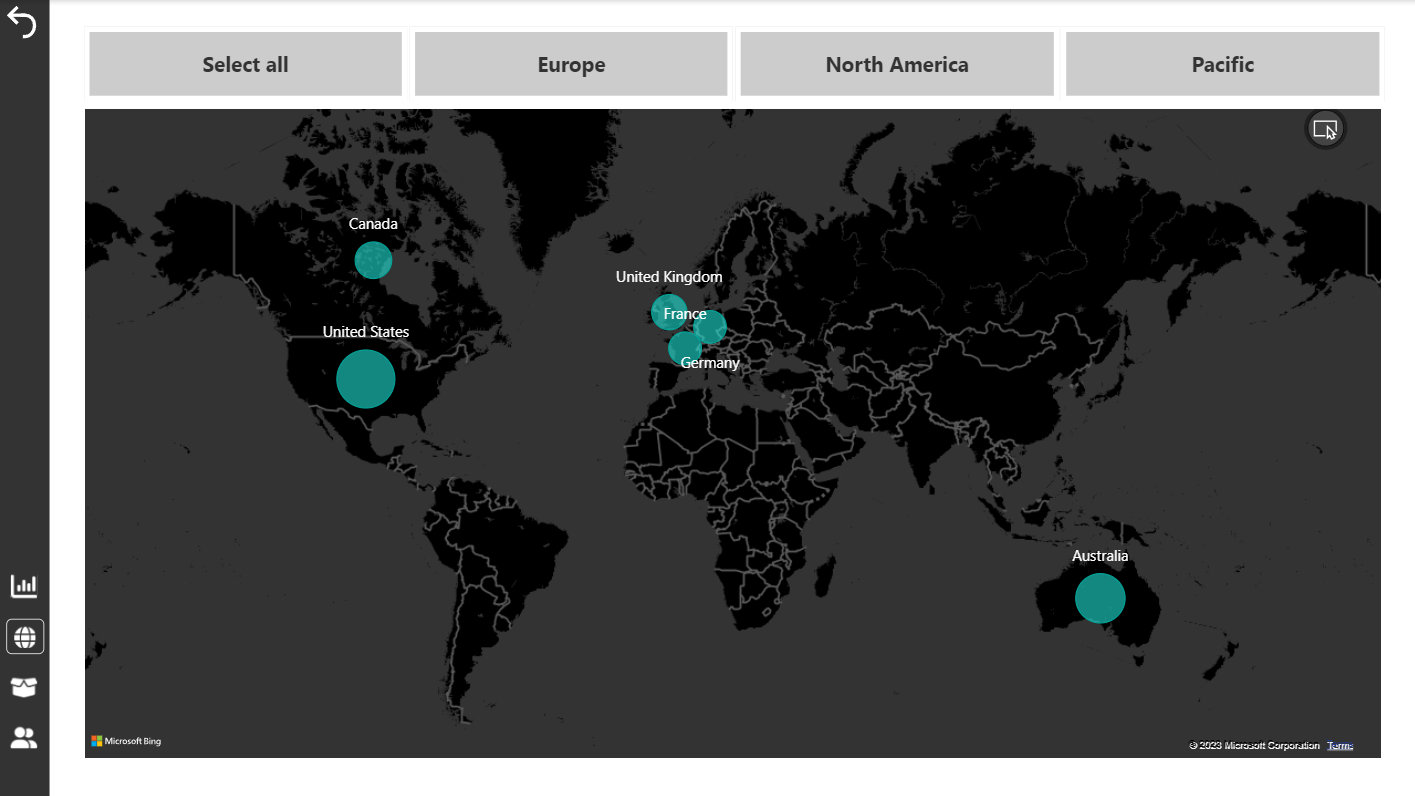

Layout of this report page (visuals, bound fields, positions):
{"tool":"powerbi","page":{"name":"Map","canvas":[1280,720],"ordinal":1},"visuals":[{"type":"shape","box":[0,0,45,720],"z":0},{"type":"actionButton","box":[6.2,514.8,34.3,32],"z":0,"group":"g1"},{"type":"actionButton","box":[6.2,652.1,34.3,32],"z":500,"group":"g1"},{"type":"actionButton","box":[6.2,560.6,34.3,32],"z":1000,"group":"g1"},{"type":"map","title":"Orders by Country","fields":{"Category":["Territory Lookup.Country"],"Size":["Measure Table.Total Orders"]},"box":[72.4,86.8,1181.6,602.6],"z":1000},{"type":"slicer","fields":{"Values":["Territory Lookup.Continent"]},"box":[50,17.1,1226.3,81.6],"z":2000},{"type":"actionButton","box":[6.2,606.3,34.3,32],"z":2000,"group":"g1"},{"type":"group","id":"g1","title":"Nav Buttons","box":[6.2,514.8,34.3,169.2],"z":3000},{"type":"actionButton","box":[0,0,45.2,39.6],"z":4000}]}

Visuals, with their boxes on the page's 1280x720 design canvas (x1, y1, x2, y2). These are canvas units, not pixel positions in the 1415x796 screenshot, which may show the page scaled, cropped or inside an application window:
shape: (x1=0, y1=0, x2=45, y2=720)
actionButton: (x1=6, y1=515, x2=40, y2=547)
actionButton: (x1=6, y1=652, x2=40, y2=684)
actionButton: (x1=6, y1=561, x2=40, y2=593)
"Orders by Country" map: (x1=72, y1=87, x2=1254, y2=689)
slicer - Territory Lookup.Continent: (x1=50, y1=17, x2=1276, y2=99)
actionButton: (x1=6, y1=606, x2=40, y2=638)
"Nav Buttons" group: (x1=6, y1=515, x2=40, y2=684)
actionButton: (x1=0, y1=0, x2=45, y2=40)
